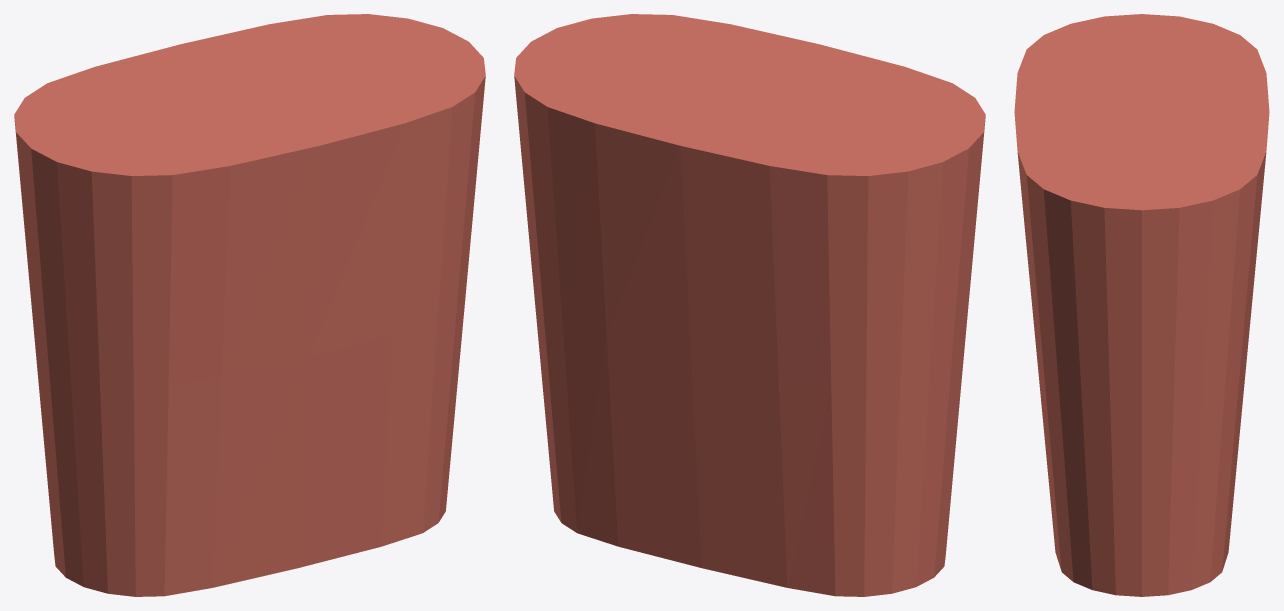
The model's file is joint.fbx.
3 views of the same model, side by side, from view 1: azimuth 30°, elevation 25°; view 2: azimuth 150°, elevation 25°; view 3: azimuth 270°, elevation 25° (orthographic). The views are drawn at different scales.
Visible parts, largest first — view 1: joint; view 2: joint; view 3: joint.
Boxes of the visible parts, <box> form: joint: <box>14,14,485,596</box>; joint: <box>514,14,985,596</box>; joint: <box>1014,14,1269,596</box>.
Bounding box in the file's own units: 0.0213 × 0.0204 × 0.0117.
